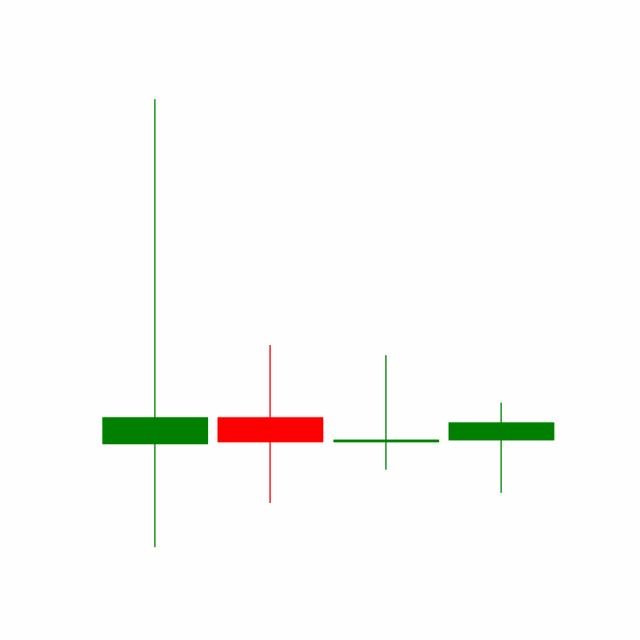Spinning Top: (443, 401, 559, 494)
